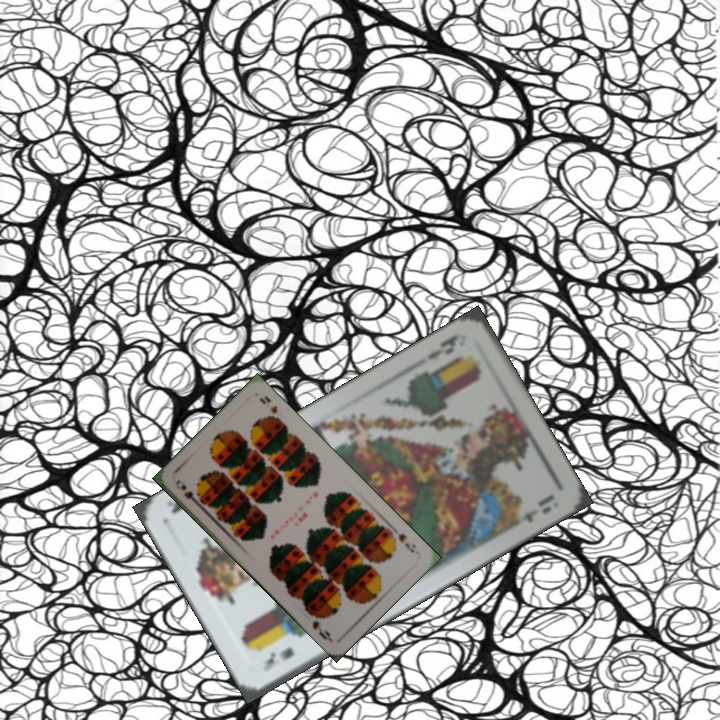EK: (423, 330, 462, 363), (258, 643, 297, 674)
S9: (171, 475, 205, 509), (389, 525, 418, 556)
